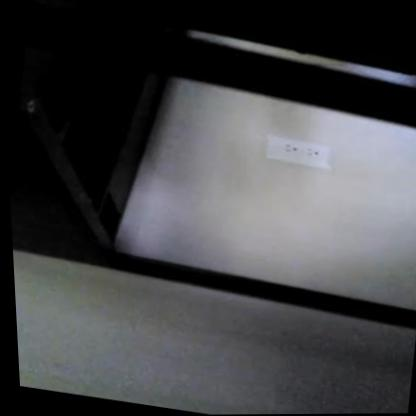OUTLET: (263, 132, 332, 169)
